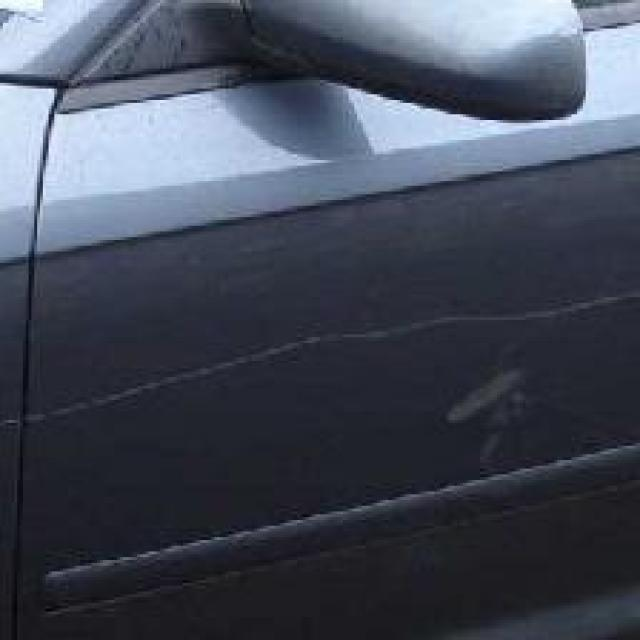door_scratch_minor: (49, 346, 297, 414)
